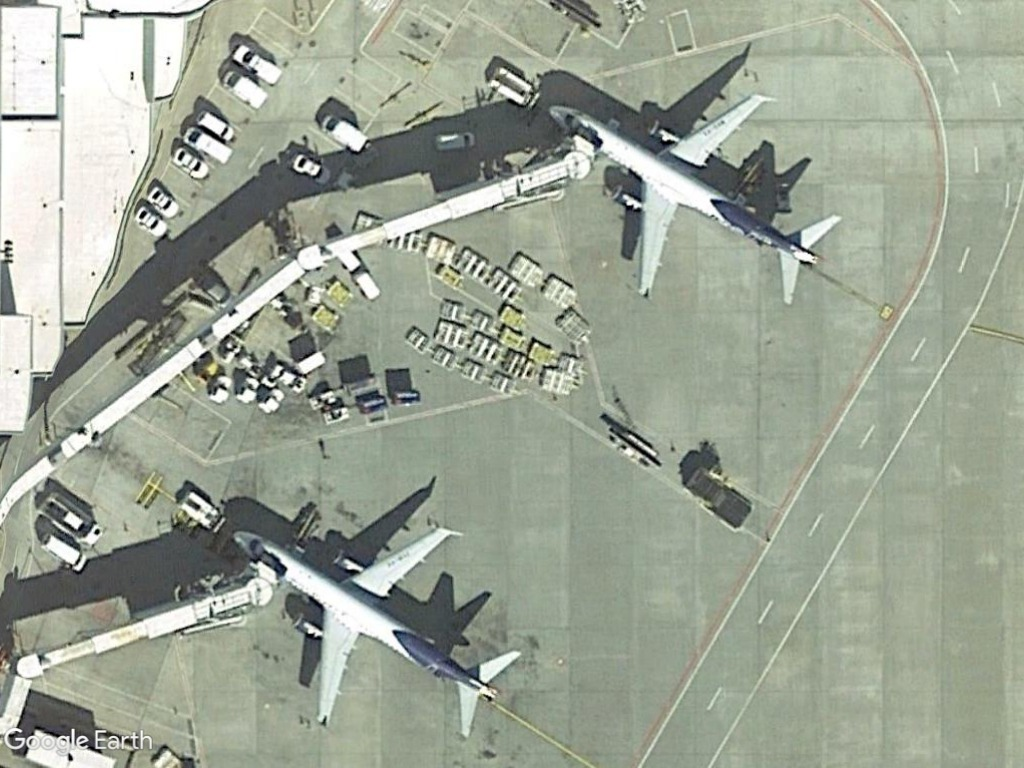airliner: (226, 523, 531, 745), (542, 88, 844, 310)
pushbacktruck: (482, 61, 547, 112), (174, 481, 230, 535)
van: (229, 41, 287, 89), (181, 122, 238, 166), (319, 110, 372, 157)
